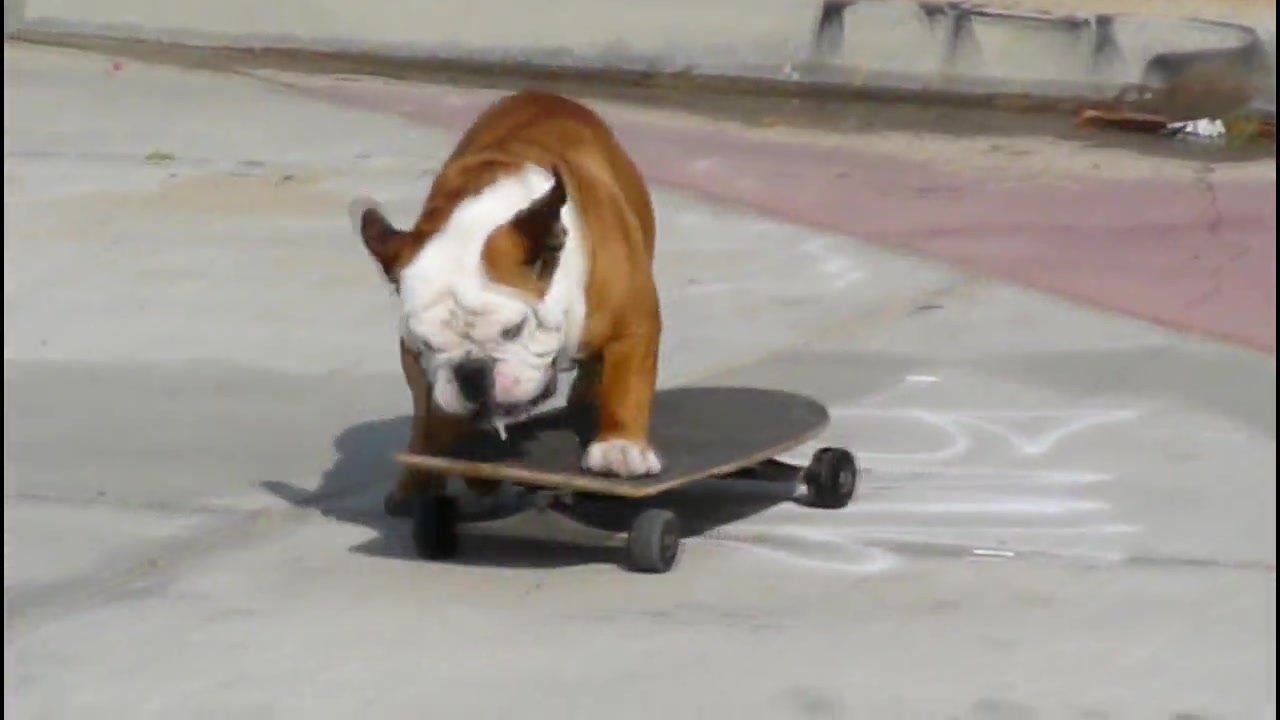dog: (355, 84, 665, 522)
